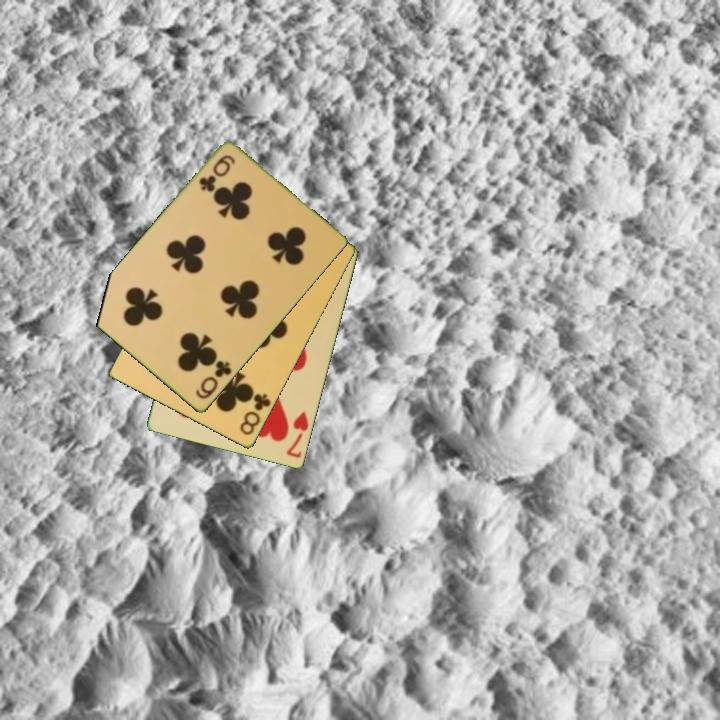6c: (192, 357, 235, 403), (195, 152, 238, 195)
7h: (283, 409, 312, 461)
8c: (236, 390, 274, 439)
